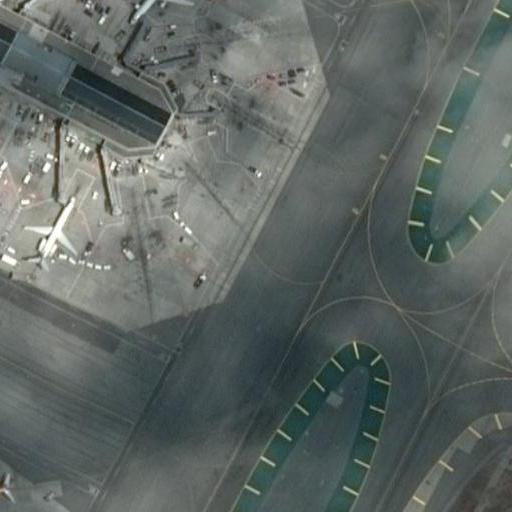Aircraft: (19, 194, 90, 265), (124, 0, 198, 27), (0, 447, 21, 510), (0, 139, 6, 220)
